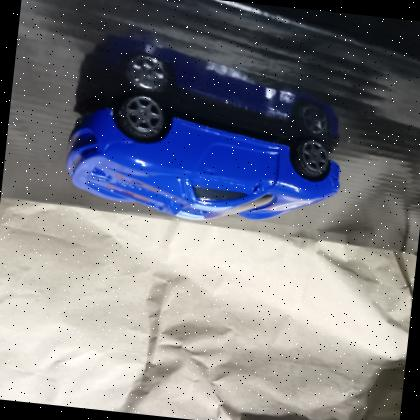Car: (55, 80, 354, 238)
